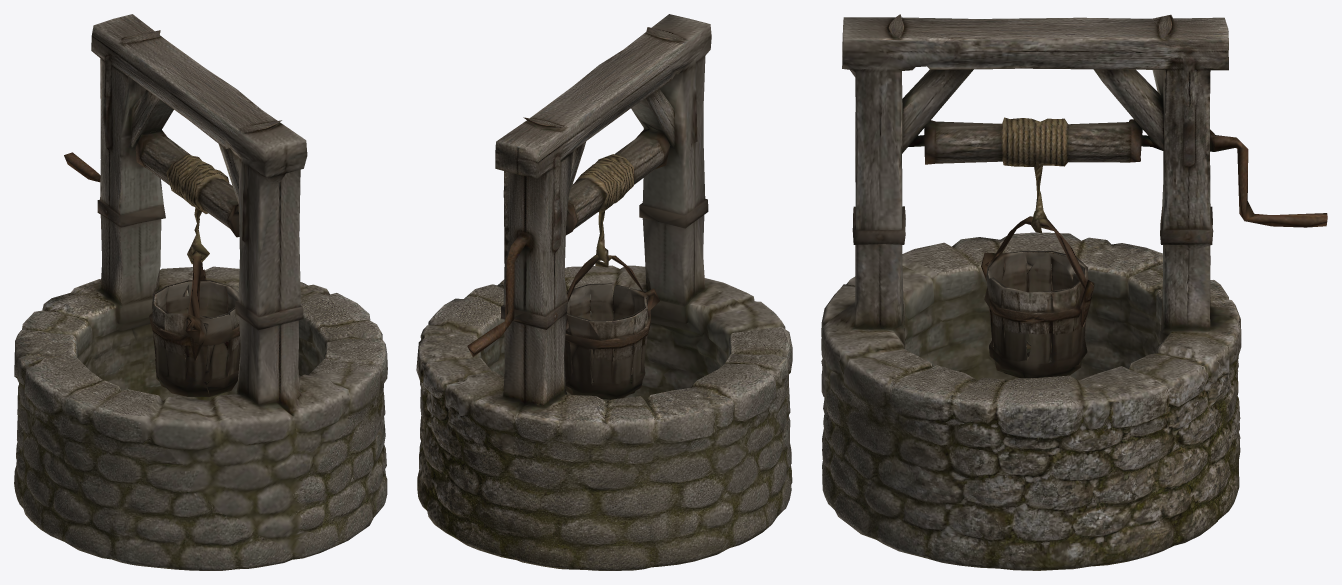
The model's file is stone-well.glb.
The picture shows the model from 3 angles, left to right: view 1: azimuth 30°, elevation 25°; view 2: azimuth 150°, elevation 25°; view 3: azimuth 270°, elevation 25°; orthographic projection. The views are drawn at different scales.
Visible parts, largest first — view 1: tripo_node_ea1be430-3e6a-4803-8dad-93a8038385c7; view 2: tripo_node_ea1be430-3e6a-4803-8dad-93a8038385c7; view 3: tripo_node_ea1be430-3e6a-4803-8dad-93a8038385c7.
Part boxes in pixels (x1,y1,x2,y2): tripo_node_ea1be430-3e6a-4803-8dad-93a8038385c7: [14, 14, 387, 570]; tripo_node_ea1be430-3e6a-4803-8dad-93a8038385c7: [416, 14, 792, 570]; tripo_node_ea1be430-3e6a-4803-8dad-93a8038385c7: [821, 14, 1327, 570].
Bounding box in the file's own units: 0.9725 × 1.2 × 1.18.
Materials: 1 (1 with a texture image).
